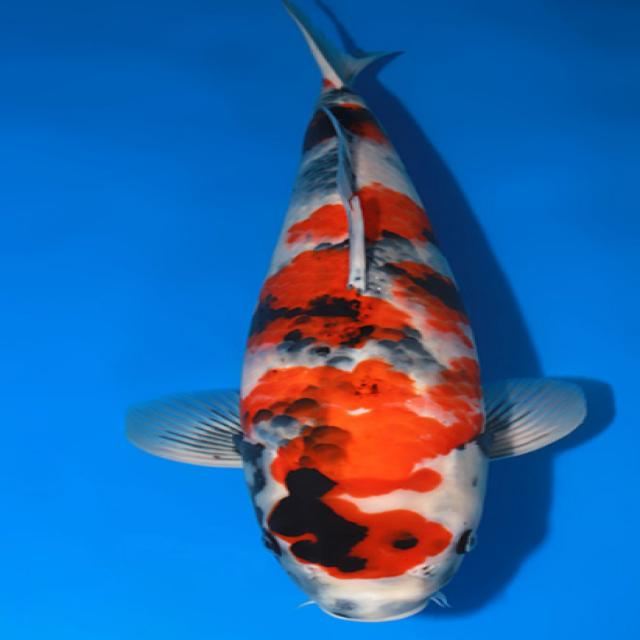Showa: (123, 0, 587, 623)
